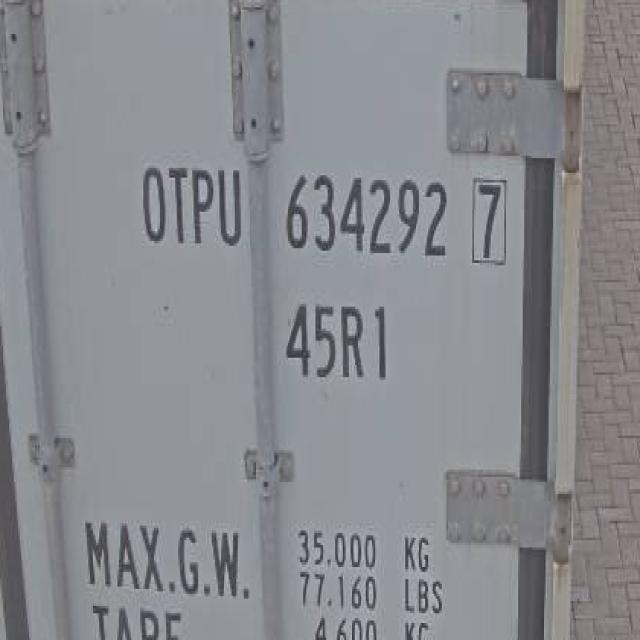dv: (460, 171, 513, 271)
owner: (129, 153, 246, 257)
serial: (272, 164, 448, 267)
size: (277, 294, 397, 390)
